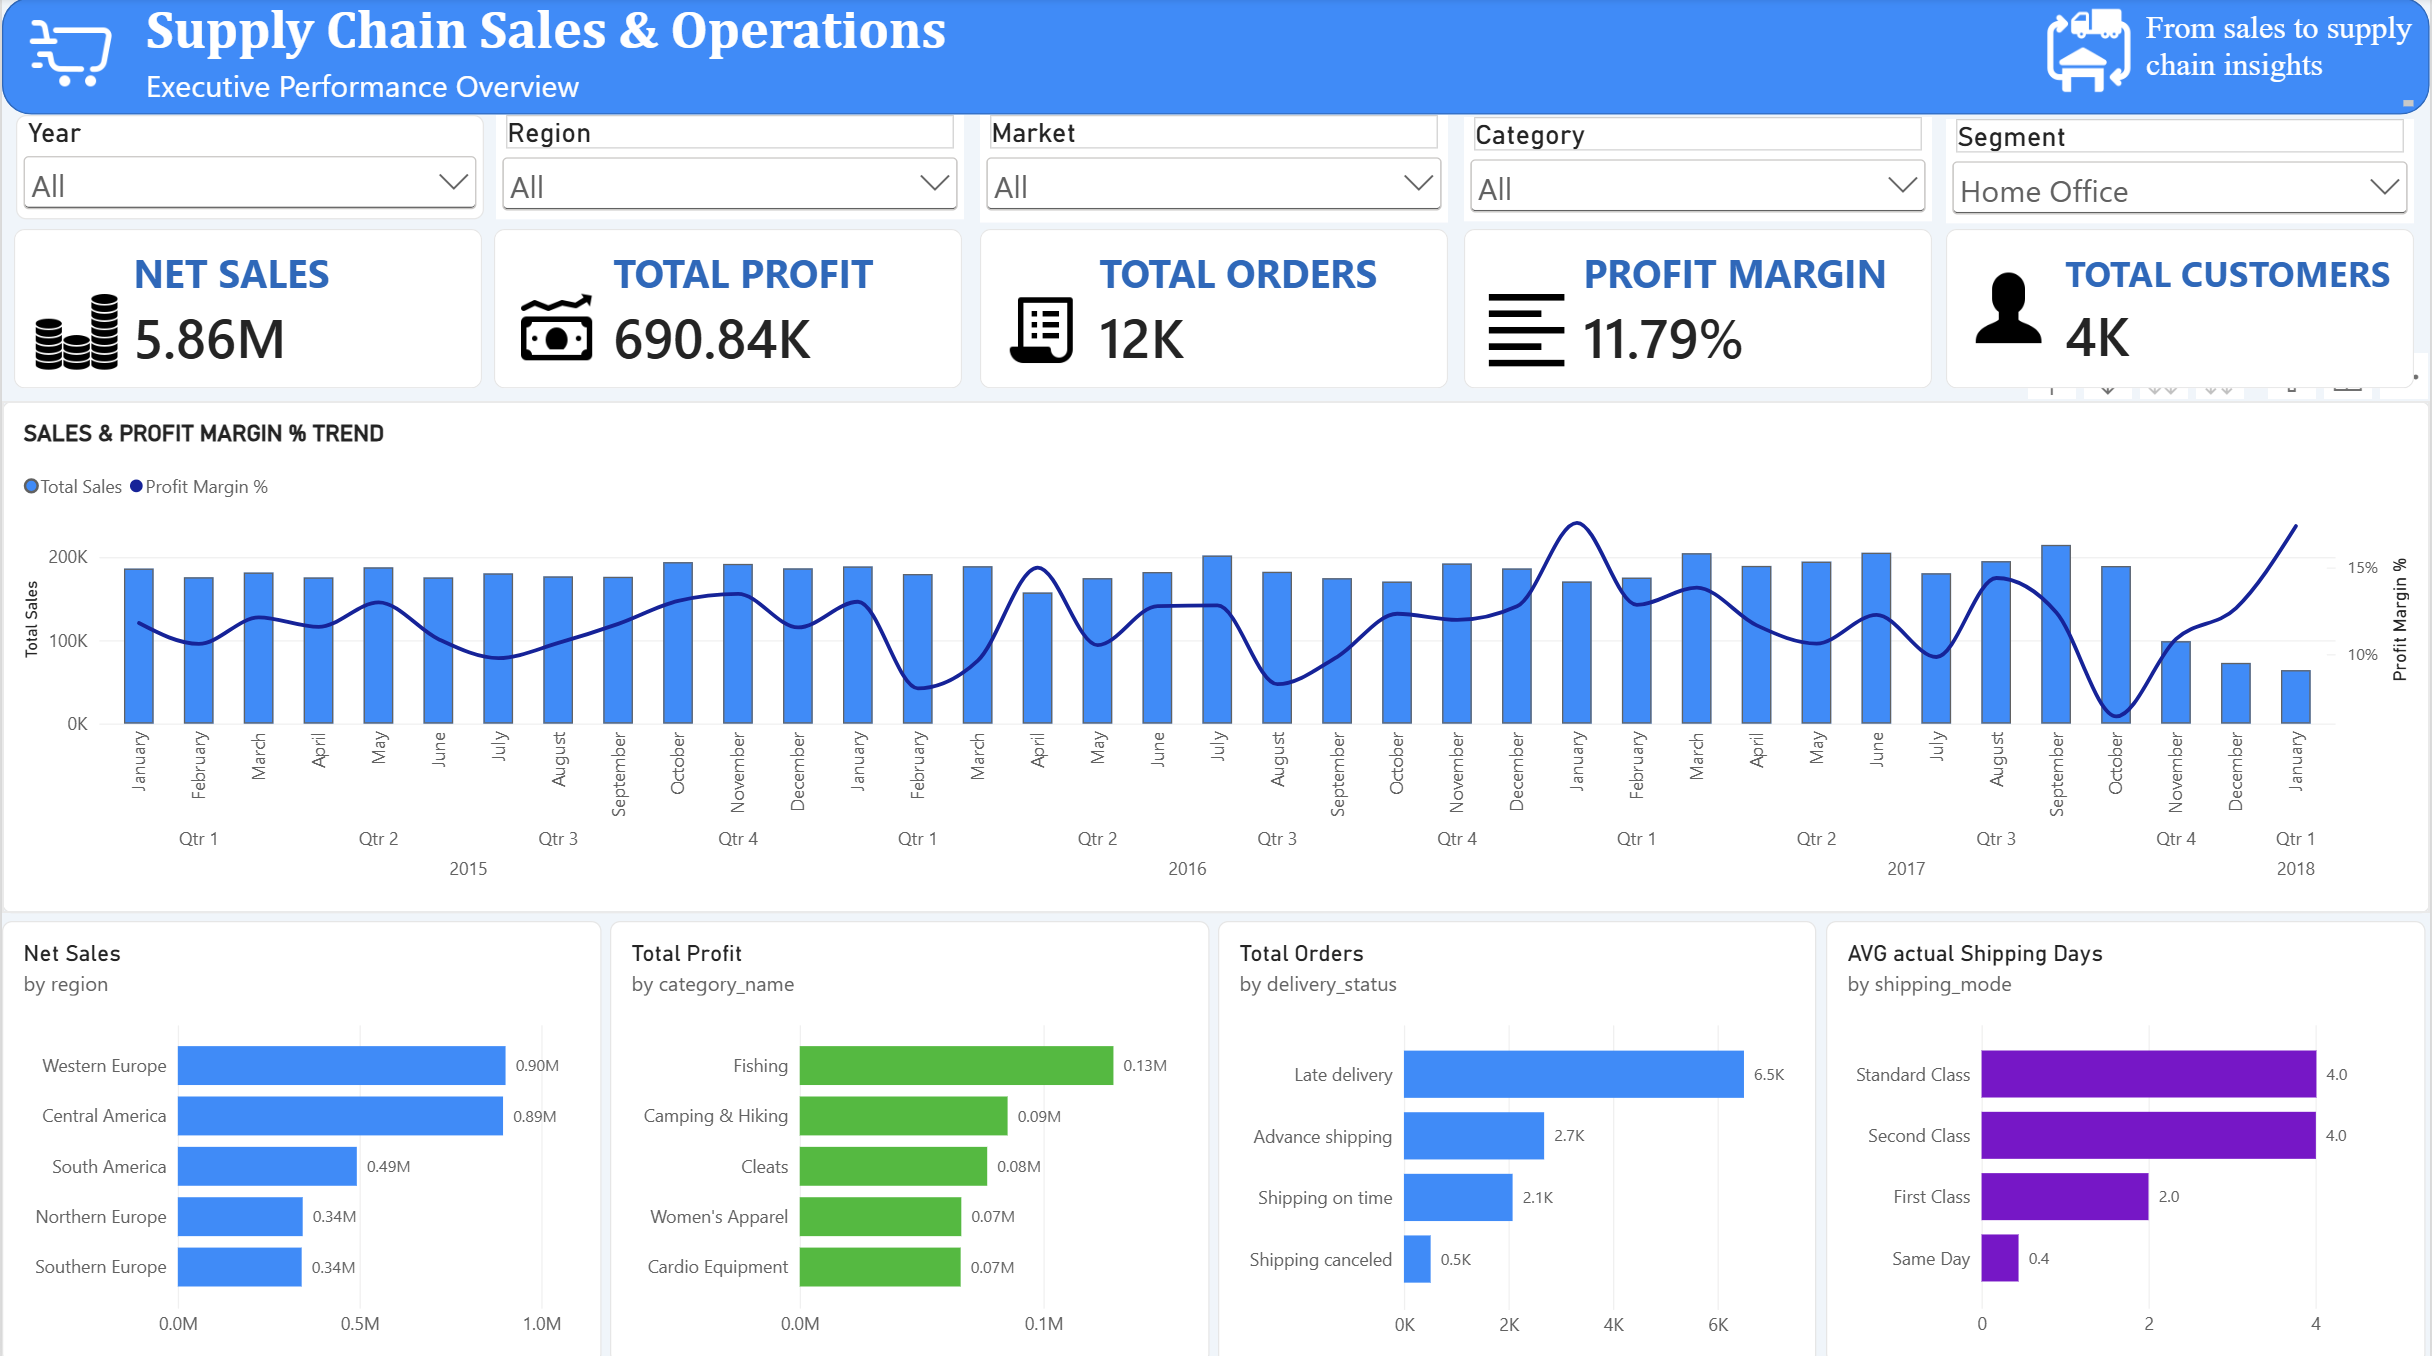

This screenshot's page, from the dashboard's own definition file:
{"tool":"powerbi","page":{"name":"Executive Overview","canvas":[1920,1080],"ordinal":0},"visuals":[{"type":"shape","box":[0,0,1919.3,93],"z":0},{"type":"textbox","title":"Supply Chain Sales & Operations","box":[114.3,0,644.5,112.8],"z":1000},{"type":"slicer","fields":{"Values":["dim_date.year_number"]},"box":[10.5,93,370.2,82.5],"z":2000},{"type":"slicer","fields":{"Values":["dim_order_locations.region"]},"box":[391.2,93,370.2,82.5],"z":3000},{"type":"slicer","fields":{"Values":["dim_order_locations.market"]},"box":[773.3,93.3,370,85],"z":4000},{"type":"slicer","fields":{"Values":["dim_products.category_name"]},"box":[1156.1,94.7,370.2,82.5],"z":5000},{"type":"slicer","fields":{"Values":["dim_customers.segment"]},"box":[1536.8,96.5,370.2,82.5],"z":6000},{"type":"barChart","fields":{"Y":["_Measures.Net Sales"],"Category":["dim_order_locations.region"]},"box":[0,730,474,350],"z":7000},{"type":"barChart","fields":{"Y":["_Measures.Total Profit"],"Category":["dim_products.category_name"]},"box":[480,730,474,350],"z":8000},{"type":"barChart","fields":{"Category":["fact_order_items.delivery_status"],"Y":["_Measures.Total Orders"]},"box":[961.4,730.5,472.8,351],"z":9000},{"type":"barChart","fields":{"Y":["_Measures.AVG actual Shipping Days"],"Category":["fact_order_items.shipping_mode"]},"box":[1442,730,474,350],"z":10000},{"type":"lineStackedColumnComboChart","title":"SALES & PROFIT MARGIN % TREND","fields":{"Category":["dim_date.calendar_date.Variation.Date Hierarchy.Year","dim_date.calendar_date.Variation.Date Hierarchy.Quarter","dim_date.calendar_date.Variation.Date Hierarchy.Month"],"Y":["_Measures.Total Sales"],"Y2":["_Measures.Profit Margin %"]},"box":[0,320,1920,405],"z":11000},{"type":"cardVisual","fields":{"Data":["_Measures.Net Sales"]},"box":[10,183.3,370,126.7],"z":12000},{"type":"cardVisual","fields":{"Data":["_Measures.Total Profit"]},"box":[388.3,183.3,370,126.7],"z":13000},{"type":"cardVisual","fields":{"Data":["_Measures.Total Orders"]},"box":[773.3,183.3,370,126.7],"z":14000},{"type":"cardVisual","fields":{"Data":["_Measures.Profit Margin %"]},"box":[1156.7,183.3,370,126.7],"z":15000},{"type":"cardVisual","fields":{"Data":["_Measures.Total Customers"]},"box":[1536.7,183.3,370,126.7],"z":16000},{"type":"image","box":[10.2,10.2,92.1,70],"z":17000},{"type":"group","id":"g1","title":"Group 1","box":[1605.5,5.1,302,81.9],"z":18000},{"type":"image","box":[1605.5,5.1,90.4,75.1],"z":18000,"group":"g1"},{"type":"textbox","title":"From sales to supply chain insights","box":[1695.9,10.2,211.6,76.8],"z":19000,"group":"g1"}]}

Visuals, with their boxes in screenshot pixels (x1, y1, x2, y2), scaled from the page's 1920x1080 canvas onto the 2432x1356 screenshot:
shape: BBox(0, 0, 2431, 117)
"Supply Chain Sales & Operations" textbox: BBox(145, 0, 961, 142)
slicer - dim_date.year_number: BBox(13, 117, 482, 220)
slicer - dim_order_locations.region: BBox(496, 117, 964, 220)
slicer - dim_order_locations.market: BBox(980, 117, 1448, 224)
slicer - dim_products.category_name: BBox(1464, 119, 1933, 222)
slicer - dim_customers.segment: BBox(1947, 121, 2416, 225)
barChart - _Measures.Net Sales x dim_order_locations.region: BBox(0, 917, 600, 1355)
barChart - _Measures.Total Profit x dim_products.category_name: BBox(608, 917, 1208, 1355)
barChart - fact_order_items.delivery_status x _Measures.Total Orders: BBox(1218, 917, 1817, 1355)
barChart - _Measures.AVG actual Shipping Days x fact_order_items.shipping_mode: BBox(1827, 917, 2427, 1355)
"SALES & PROFIT MARGIN % TREND" lineStackedColumnComboChart: BBox(0, 402, 2431, 910)
cardVisual - _Measures.Net Sales: BBox(13, 230, 481, 389)
cardVisual - _Measures.Total Profit: BBox(492, 230, 961, 389)
cardVisual - _Measures.Total Orders: BBox(980, 230, 1448, 389)
cardVisual - _Measures.Profit Margin %: BBox(1465, 230, 1934, 389)
cardVisual - _Measures.Total Customers: BBox(1946, 230, 2415, 389)
image: BBox(13, 13, 130, 101)
"Group 1" group: BBox(2034, 6, 2416, 109)
image: BBox(2034, 6, 2148, 101)
"From sales to supply chain insights" textbox: BBox(2148, 13, 2416, 109)
